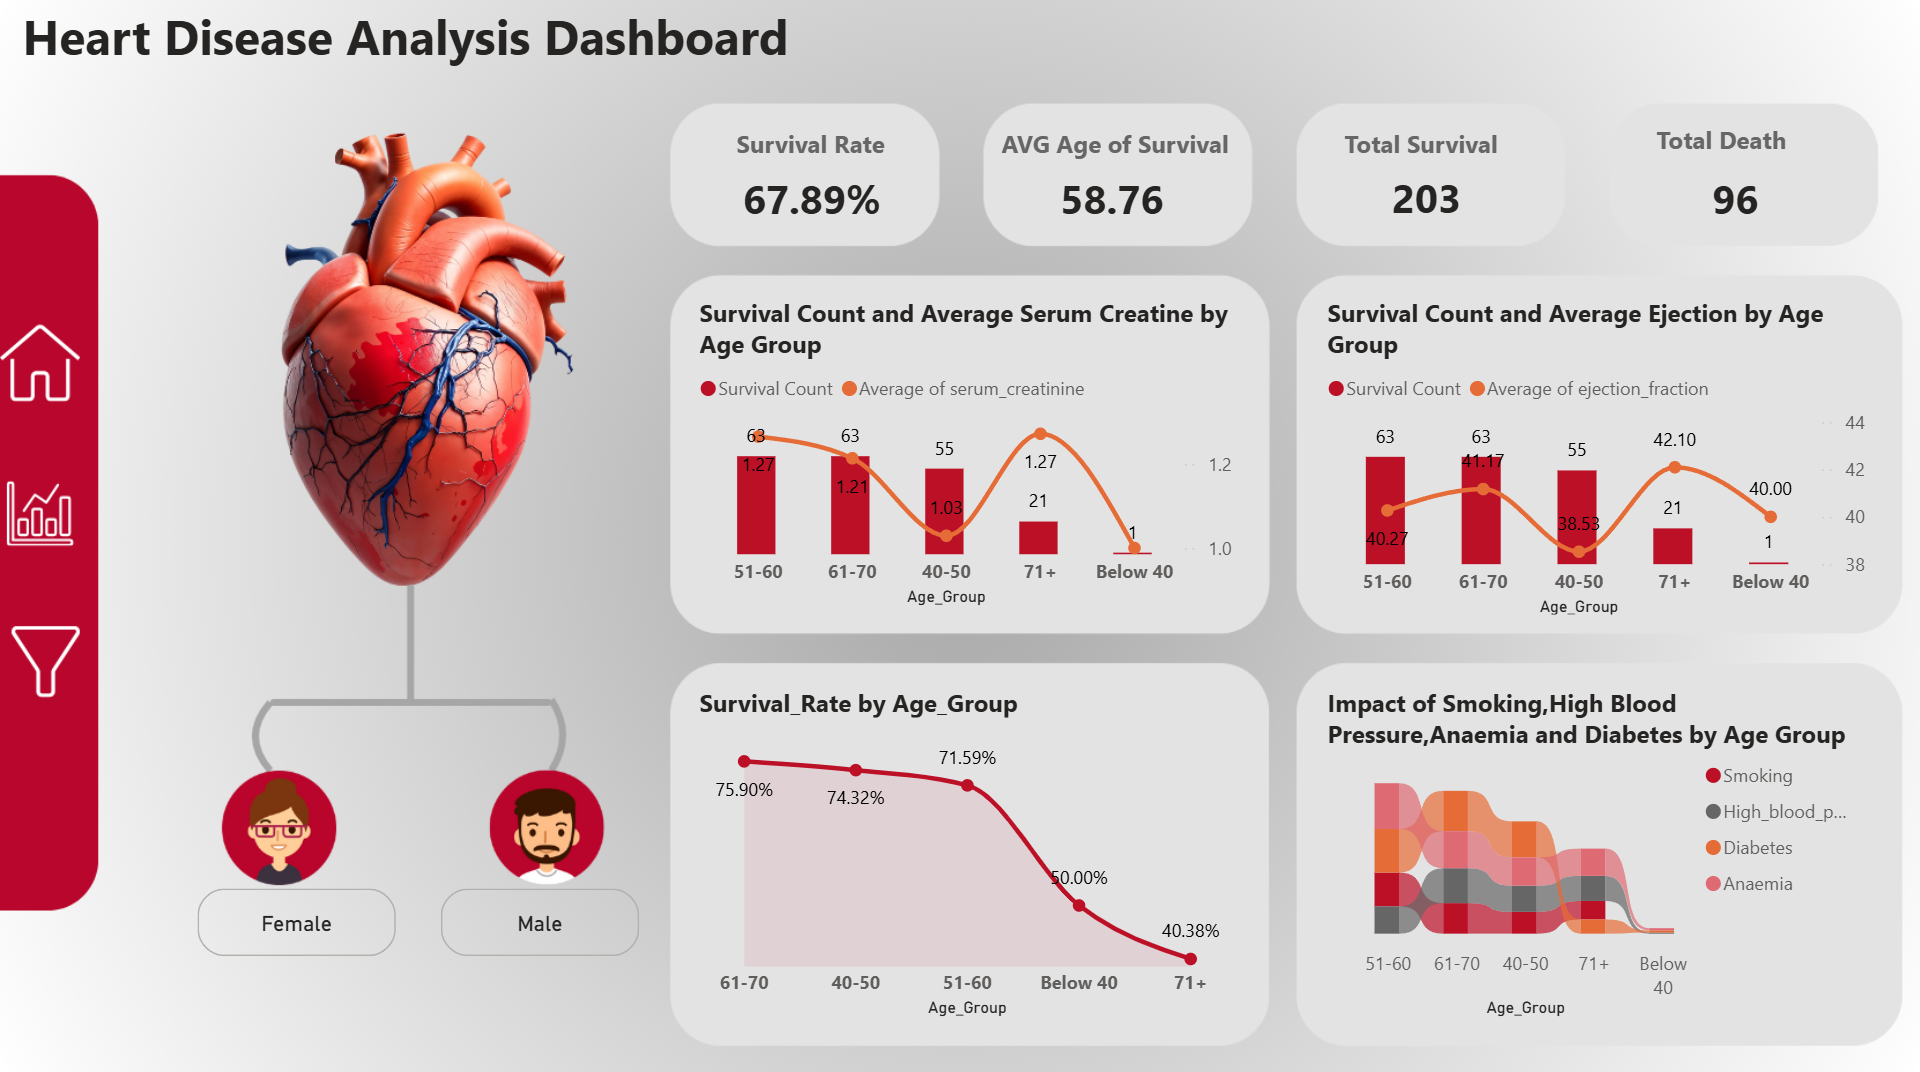

The page's visual inventory and layout, read from the dashboard file:
{"tool":"powerbi","page":{"name":"Page 1","canvas":[1280,720],"ordinal":0},"visuals":[{"type":"textbox","box":[10,0,569.1,67.9],"z":0},{"type":"card","fields":{"Values":["heart_Disease_clinical_records_.Survival_Rate"]},"box":[485,114.6,110.2,44.1],"z":1000},{"type":"card","fields":{"Values":["heart_Disease_clinical_records_.Average_Age_Survival"]},"box":[680.4,111,119.8,50.7],"z":2000},{"type":"card","fields":{"Values":["heart_Disease_clinical_records_.Total_Survivour"]},"box":[899.4,115.4,100.7,41.9],"z":3000},{"type":"card","fields":{"Values":["heart_Disease_clinical_records_.Total_Death"]},"box":[1107.3,114.6,94.8,43.4],"z":4000},{"type":"textbox","box":[485,83,135.9,50],"z":5000},{"type":"textbox","box":[661.3,83,200.6,33.8],"z":6000},{"type":"textbox","box":[889.8,83,120.5,33.8],"z":7000},{"type":"textbox","box":[1097.8,80.8,114.6,30.9],"z":8000},{"type":"lineClusteredColumnComboChart","title":"Survival Count and Average Serum Creatine by Age Group","fields":{"Category":["heart_Disease_clinical_records_.Age_Group"],"Y":["CountNonNull(heart_Disease_clinical_records_.DEATH_EVENT)"],"Y2":["Avg(heart_Disease_clinical_records_.serum_creatinine)"]},"box":[460.7,200.6,366.7,210.9],"z":9000},{"type":"lineClusteredColumnComboChart","title":"Survival Count and Average Ejection by Age Group","fields":{"Category":["heart_Disease_clinical_records_.Age_Group"],"Y":["CountNonNull(heart_Disease_clinical_records_.DEATH_EVENT)"],"Y2":["Avg(heart_Disease_clinical_records_.ejection_fraction)"]},"box":[878.8,200.6,368.9,217.5],"z":10000},{"type":"lineChart","fields":{"Category":["heart_Disease_clinical_records_.Age_Group"],"Y":["heart_Disease_clinical_records_.Survival_Rate"]},"box":[460.7,460,366.7,224.8],"z":11000},{"type":"ribbonChart","title":"Impact of Smoking,High Blood Pressure,Anaemia and Diabetes by Age Group","fields":{"Category":["heart_Disease_clinical_records_.Age_Group"],"Y":["Sum(heart_Disease_clinical_records_.smoking)","Sum(heart_Disease_clinical_records_.high_blood_pressure)","Sum(heart_Disease_clinical_records_.diabetes)","Sum(heart_Disease_clinical_records_.anaemia)"]},"box":[878.8,460,368.9,224.8],"z":12000},{"type":"advancedSlicerVisual","fields":{"Values":["heart_Disease_clinical_records_.Gender"]},"box":[126.4,590,304.2,55.1],"z":12001}]}

Visuals, with their boxes in screenshot pixels (x1, y1, x2, y2), scaled from the page's 1280x720 canvas onto the 1920x1072 screenshot:
textbox: box=[15, 0, 869, 101]
card - heart_Disease_clinical_records_.Survival_Rate: box=[728, 171, 893, 236]
card - heart_Disease_clinical_records_.Average_Age_Survival: box=[1021, 165, 1200, 241]
card - heart_Disease_clinical_records_.Total_Survivour: box=[1349, 172, 1500, 234]
card - heart_Disease_clinical_records_.Total_Death: box=[1661, 171, 1803, 235]
textbox: box=[728, 124, 931, 198]
textbox: box=[992, 124, 1293, 174]
textbox: box=[1335, 124, 1515, 174]
textbox: box=[1647, 120, 1819, 166]
"Survival Count and Average Serum Creatine by Age Group" lineClusteredColumnComboChart: box=[691, 299, 1241, 613]
"Survival Count and Average Ejection by Age Group" lineClusteredColumnComboChart: box=[1318, 299, 1872, 623]
lineChart - heart_Disease_clinical_records_.Age_Group x heart_Disease_clinical_records_.Survival_Rate: box=[691, 685, 1241, 1020]
"Impact of Smoking,High Blood Pressure,Anaemia and Diabetes by Age Group" ribbonChart: box=[1318, 685, 1872, 1020]
advancedSlicerVisual - heart_Disease_clinical_records_.Gender: box=[190, 878, 646, 960]
